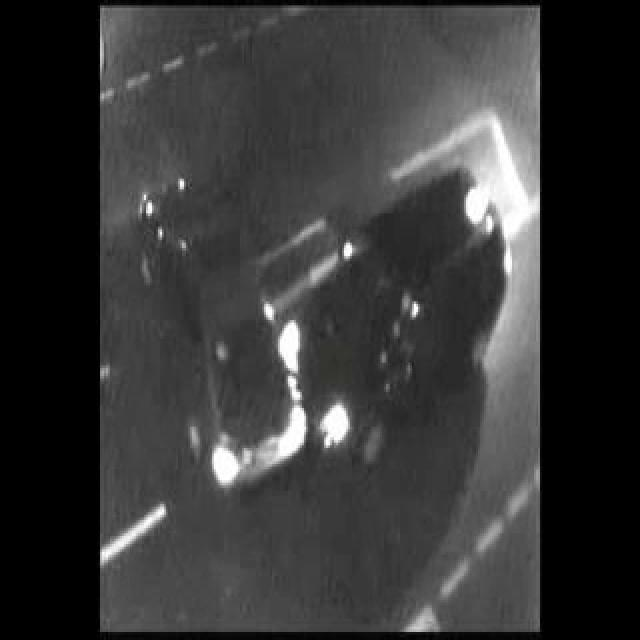road accidents: (113, 7, 431, 590)
